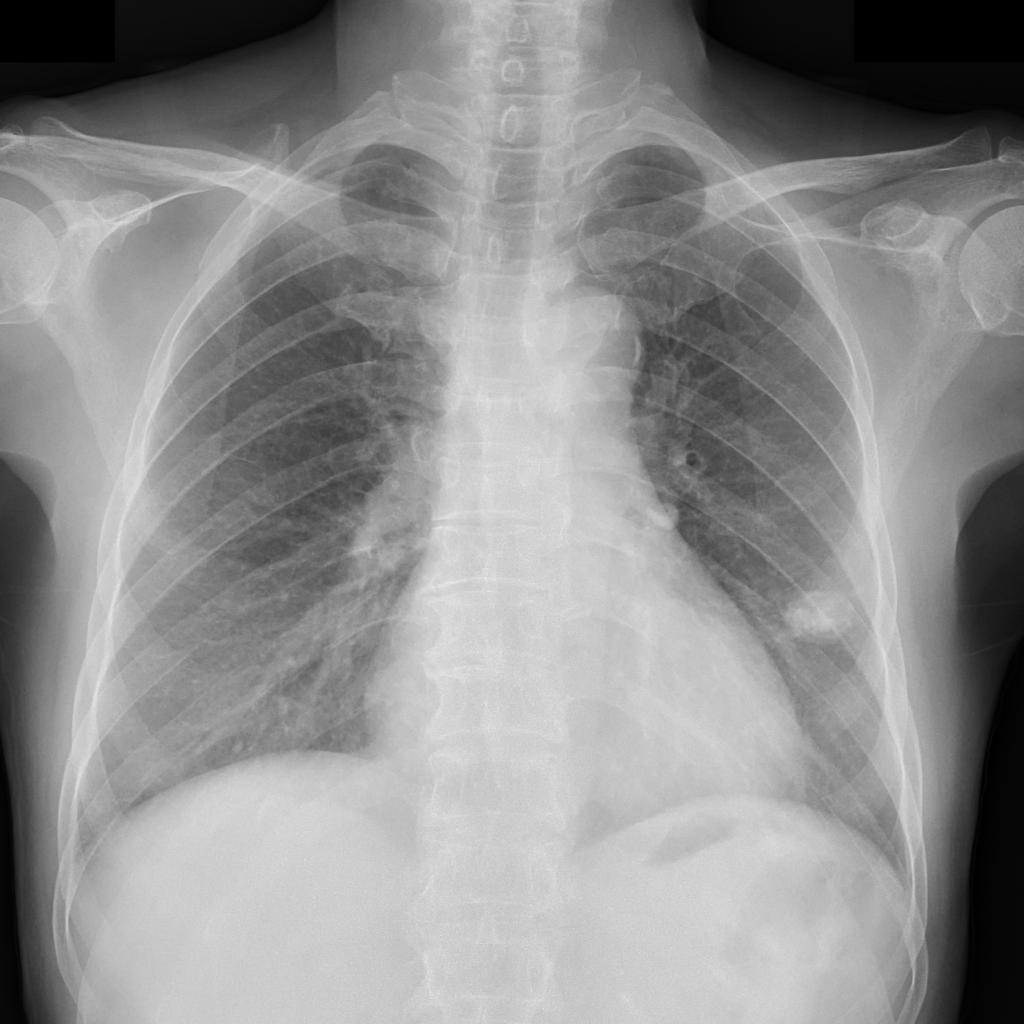Nodule: (782, 588, 853, 645)
